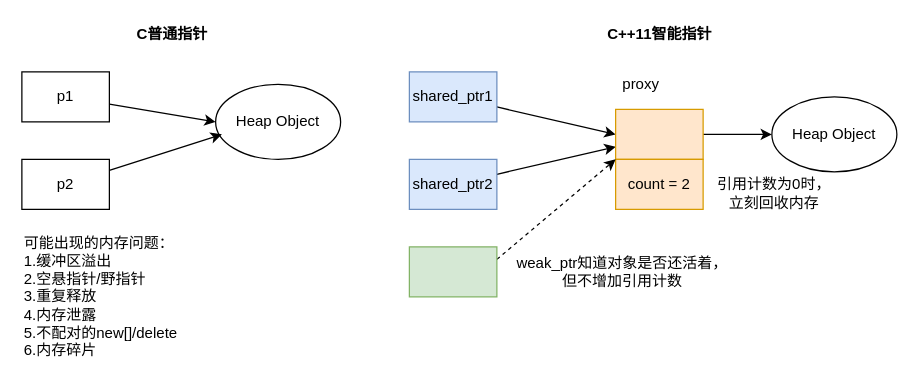
The diagram is 919 pixels wide and 381 high, and some of its shapes have lost their labels. Each missing label, with the centre of its shape:
"pointer" belongs at pixel 658 133.
"weak_ptr1" belongs at pixel 452 271.
